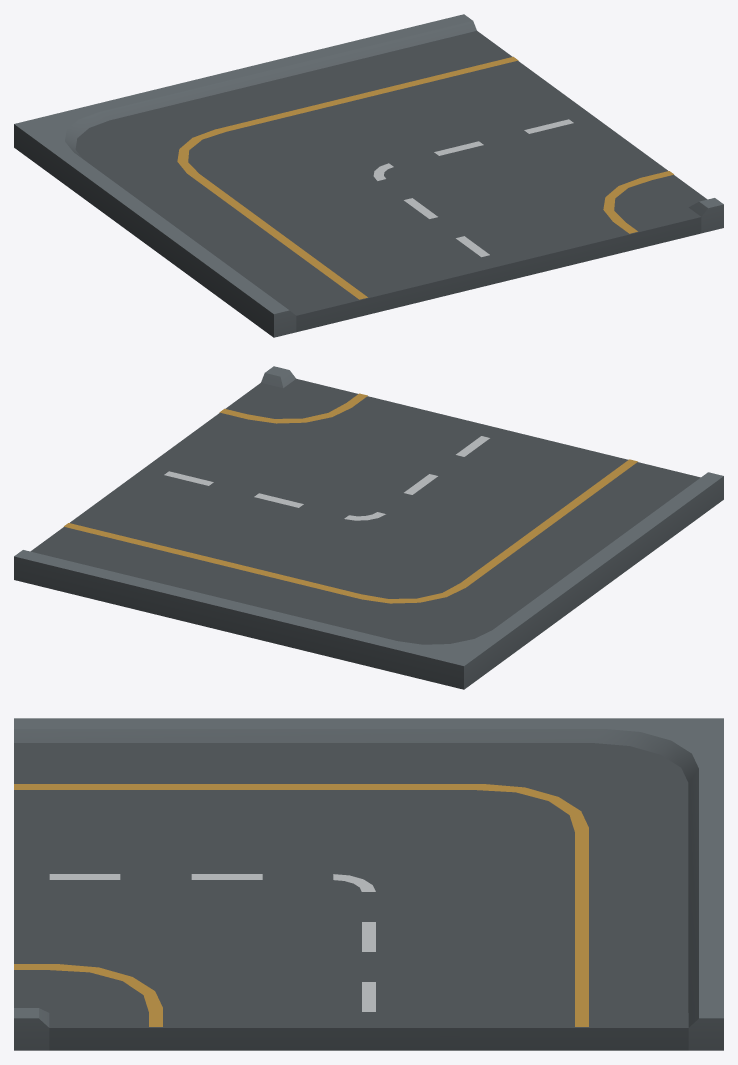
The model's file is city-road-corner.glb.
3 renders of one model, top to bottom at view 1: azimuth 30°, elevation 25°; view 2: azimuth 150°, elevation 25°; view 3: azimuth 270°, elevation 25°, orthographic. The views are drawn at different scales.
Visible parts, largest first — view 1: road_corner; view 2: road_corner; view 3: road_corner.
Boxes of the visible parts, bbox=[...] form: road_corner: bbox=[14, 14, 723, 337]; road_corner: bbox=[14, 366, 723, 689]; road_corner: bbox=[14, 718, 723, 1050].
Bounding box in the file's own units: 2 × 0.1 × 2.
